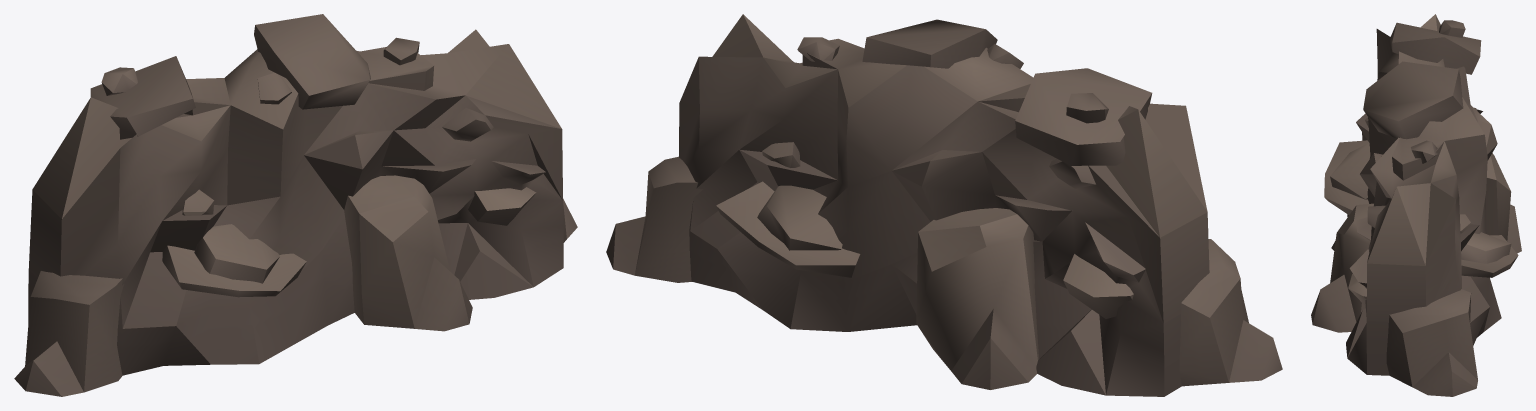
Rendered from rubble_big.fbx.
3 views of the same model, side by side, from view 1: azimuth 30°, elevation 25°; view 2: azimuth 150°, elevation 25°; view 3: azimuth 270°, elevation 25° (orthographic). The views are drawn at different scales.
Parts seen in each view (by area): view 1: rubble_large; view 2: rubble_large; view 3: rubble_large.
Boxes of the visible parts, x1,y1,x2,y2 form: rubble_large: [14, 14, 577, 396]; rubble_large: [606, 14, 1282, 396]; rubble_large: [1311, 14, 1521, 396].
Size of the model in its own units: 813 by 350 by 318.
1 material, 1 textured.
